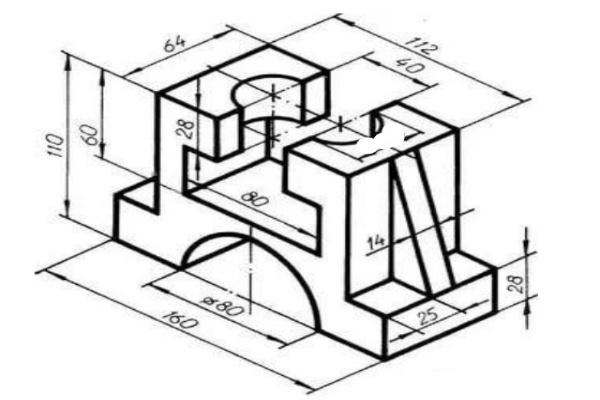dimensions: (198, 289, 247, 319), (158, 306, 199, 336), (391, 49, 427, 80), (404, 29, 441, 59), (37, 129, 66, 164), (236, 188, 274, 211), (74, 118, 101, 149), (159, 30, 189, 56), (172, 114, 198, 143), (414, 302, 441, 327), (504, 270, 526, 298), (365, 227, 387, 252)
